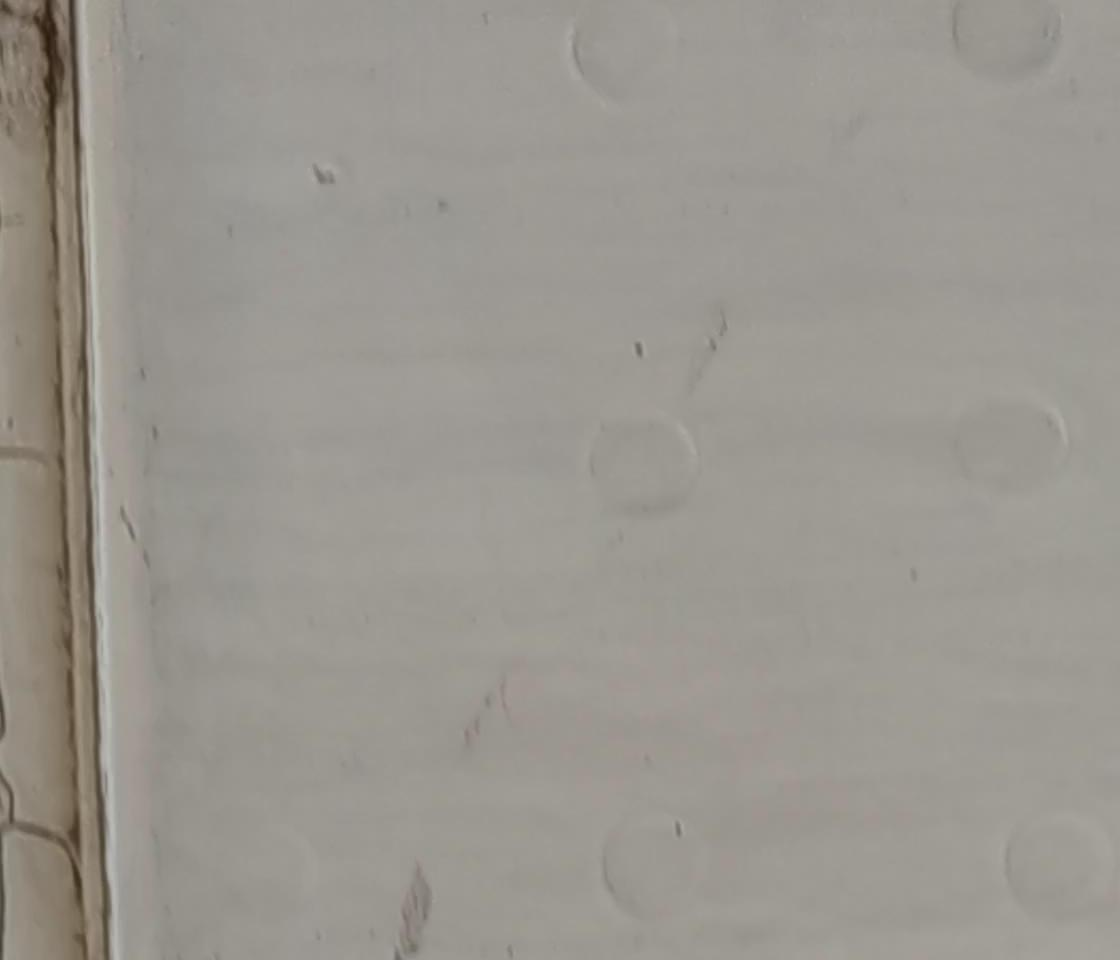scratch: (627, 332, 651, 365), (666, 815, 688, 845)
